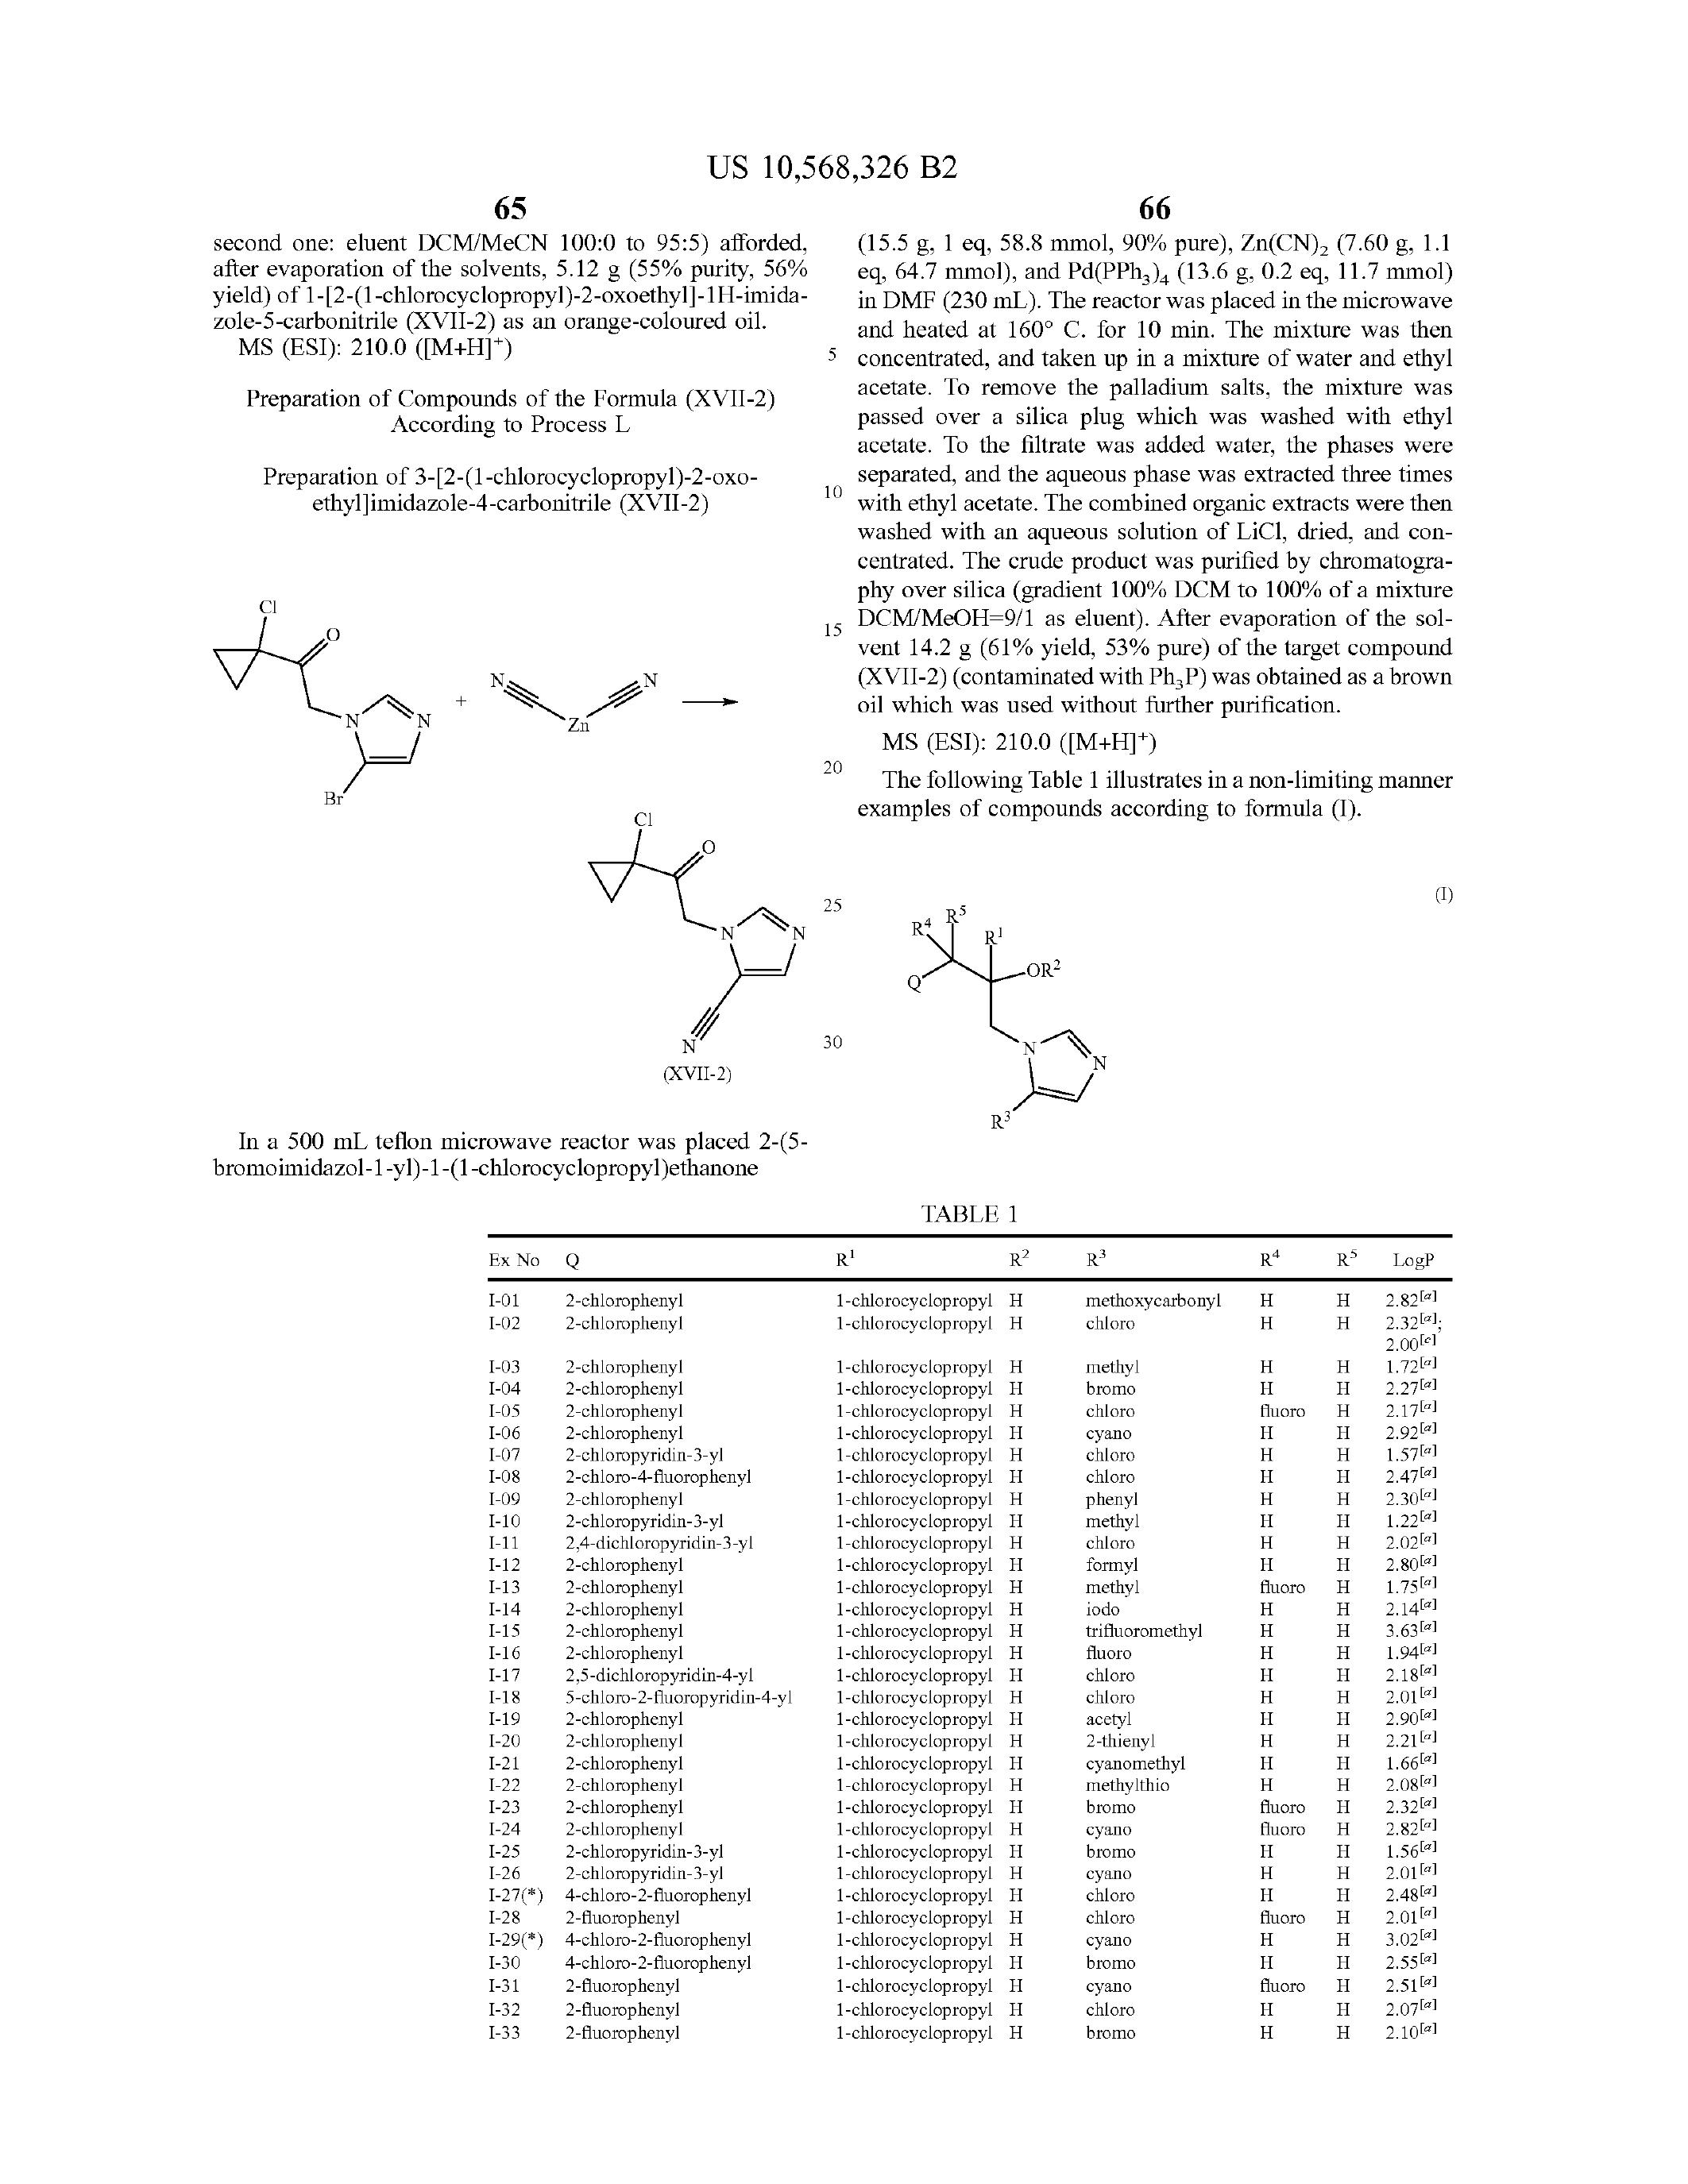reactions: (564, 814, 1137, 1168), (191, 583, 777, 791)
